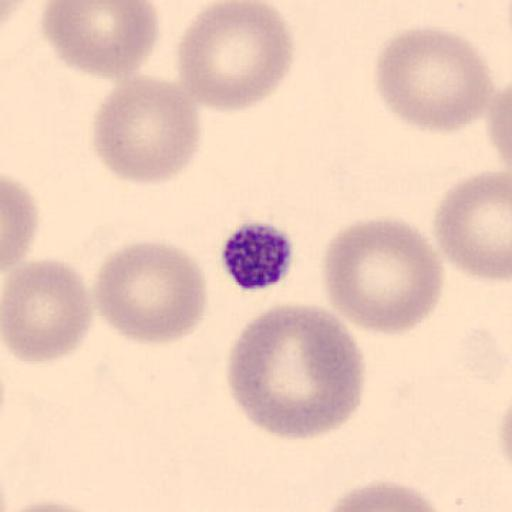Platelet: (218, 219, 298, 293)
RBC: (226, 303, 366, 442), (321, 215, 446, 336), (373, 22, 495, 135), (174, 0, 295, 111), (90, 74, 203, 186), (92, 240, 208, 346), (2, 258, 95, 364), (39, 0, 159, 80), (432, 167, 512, 283), (312, 476, 448, 512), (2, 172, 38, 278), (486, 80, 511, 167), (0, 498, 108, 512)
